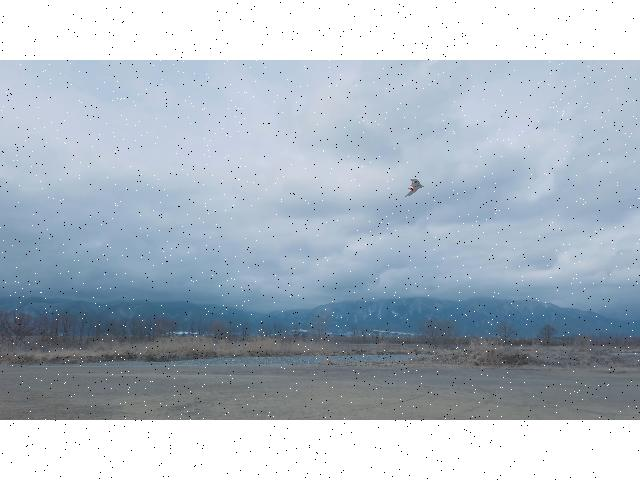Anti-Drone: (404, 177, 426, 199)
